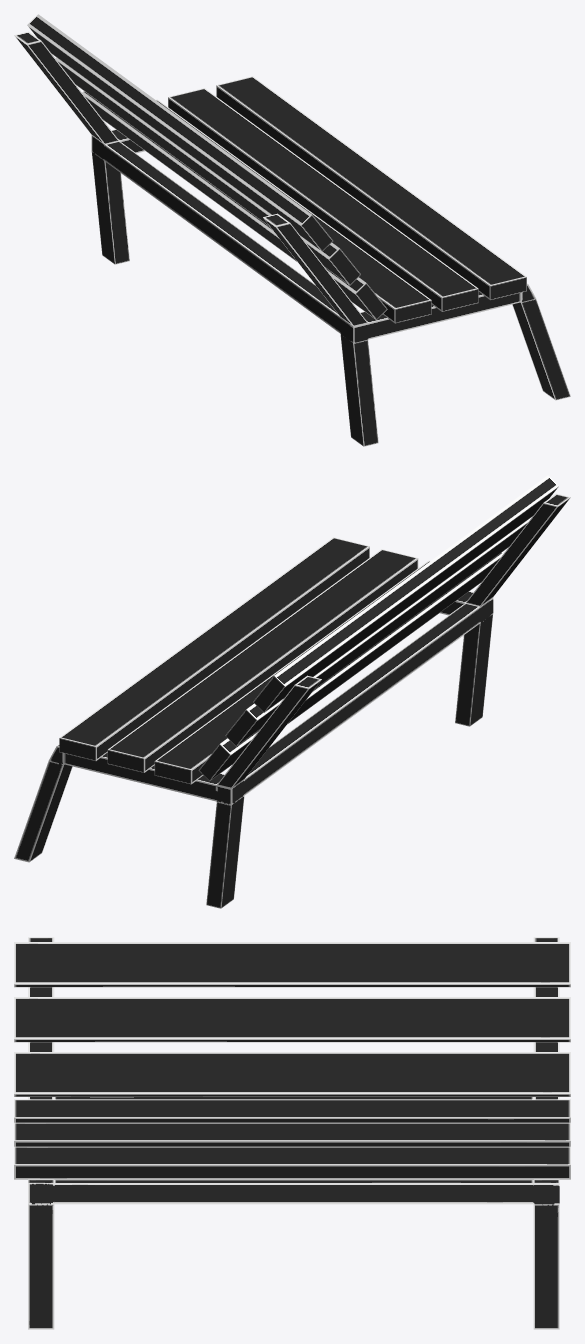
Rendered from BenchGGJ.fbx.
3 views of the same model, one above another, from view 1: azimuth 30°, elevation 25°; view 2: azimuth 150°, elevation 25°; view 3: azimuth 270°, elevation 25° (orthographic).
Parts seen in each view (by area): view 1: pCube16; view 2: pCube16; view 3: pCube16.
Boxes of the visible parts, x1=… form: pCube16: x1=14, y1=14, x2=570, y2=446; pCube16: x1=14, y1=475, x2=570, y2=908; pCube16: x1=14, y1=937, x2=570, y2=1329.
Bounding box in the file's own units: 4.27 × 3.48 × 6.86.
